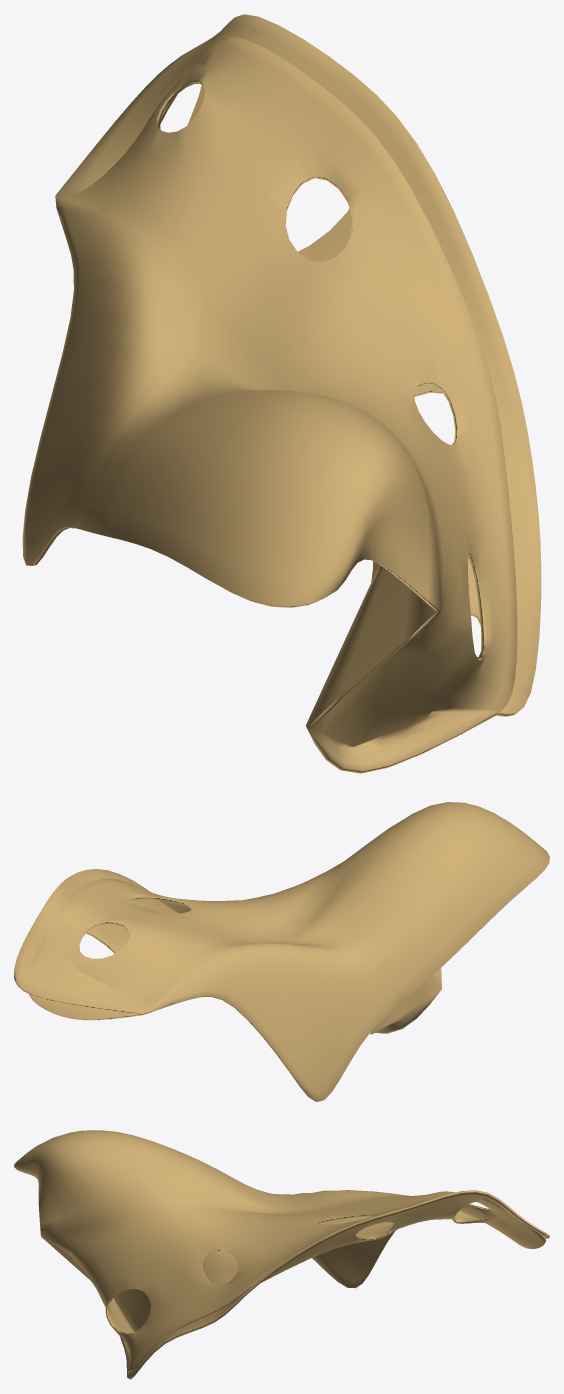
3 views of the same model, one above another, from view 1: azimuth 30°, elevation 25°; view 2: azimuth 150°, elevation 25°; view 3: azimuth 270°, elevation 25° (orthographic). The views are drawn at different scales.
Parts seen in each view (by area): view 1: 右侧骶髂后韧带; view 2: 右侧骶髂后韧带; view 3: 右侧骶髂后韧带.
Boxes of the visible parts, x1=… form: 右侧骶髂后韧带: x1=22, y1=14, x2=541, y2=773; 右侧骶髂后韧带: x1=14, y1=802, x2=549, y2=1101; 右侧骶髂后韧带: x1=14, y1=1130, x2=549, y2=1379.
Size of the model in its own units: 0.0752 by 0.064 by 0.1402.
